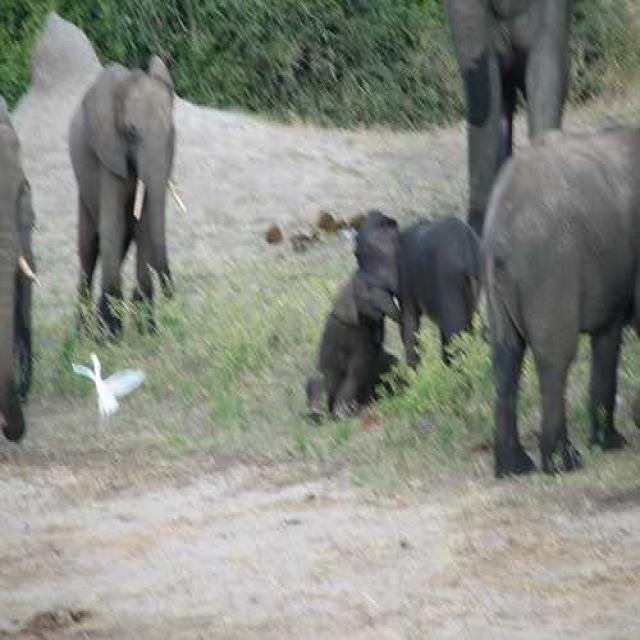Elephant: (478, 121, 638, 478), (66, 53, 176, 341), (443, 0, 575, 236), (352, 208, 484, 374), (303, 268, 406, 423), (0, 77, 40, 449)
